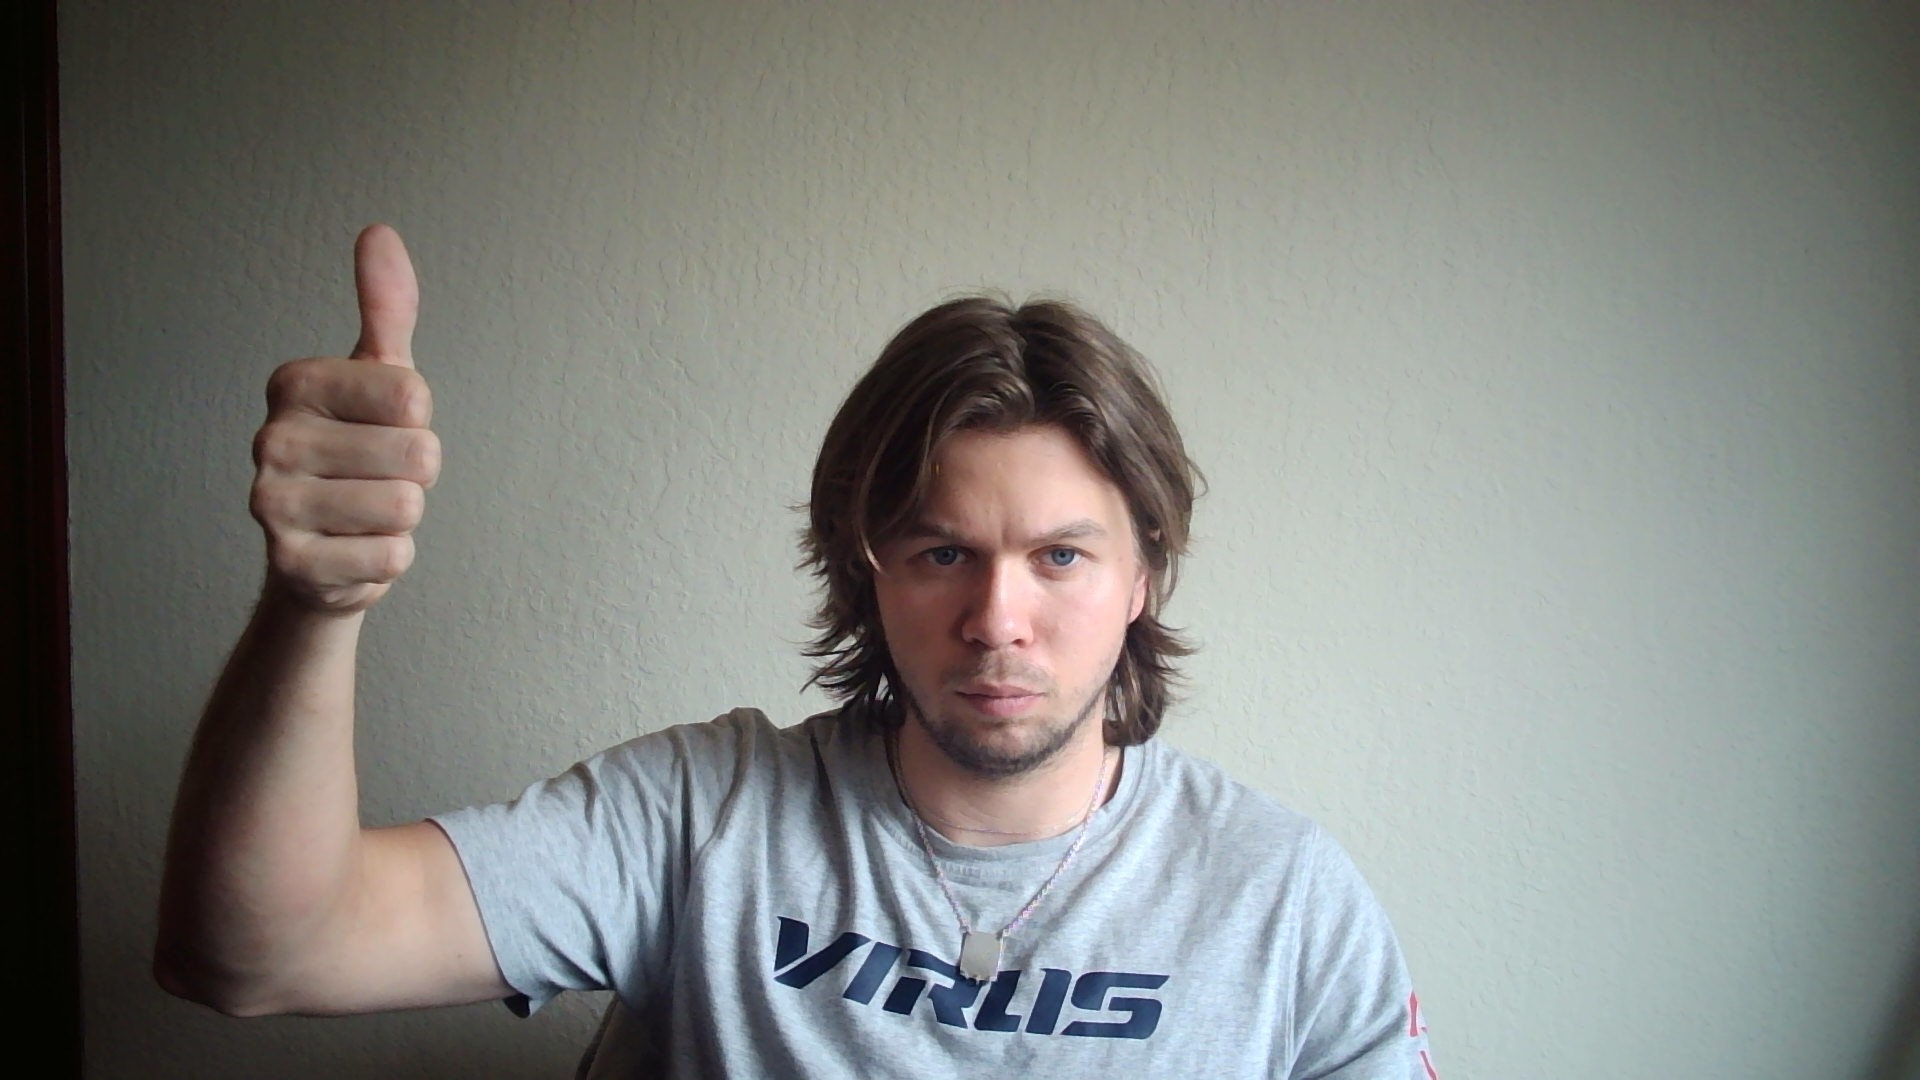good: (248, 222, 442, 611)
